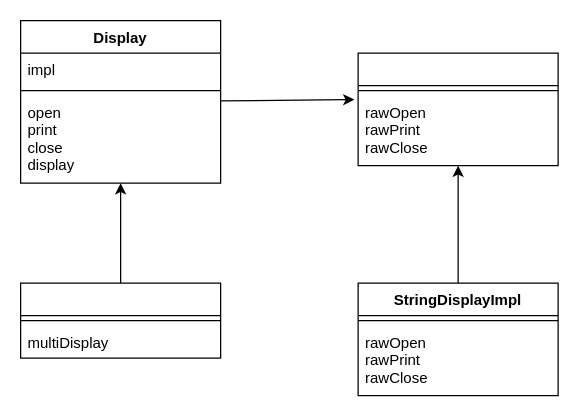
Some shapes in this 579 by 416 pixel diagram are drawn without their labels. Each missing label, with the box of its shape:
CountDisplay: (19, 282, 221, 358)
DisplayImpl: (357, 52, 558, 166)
